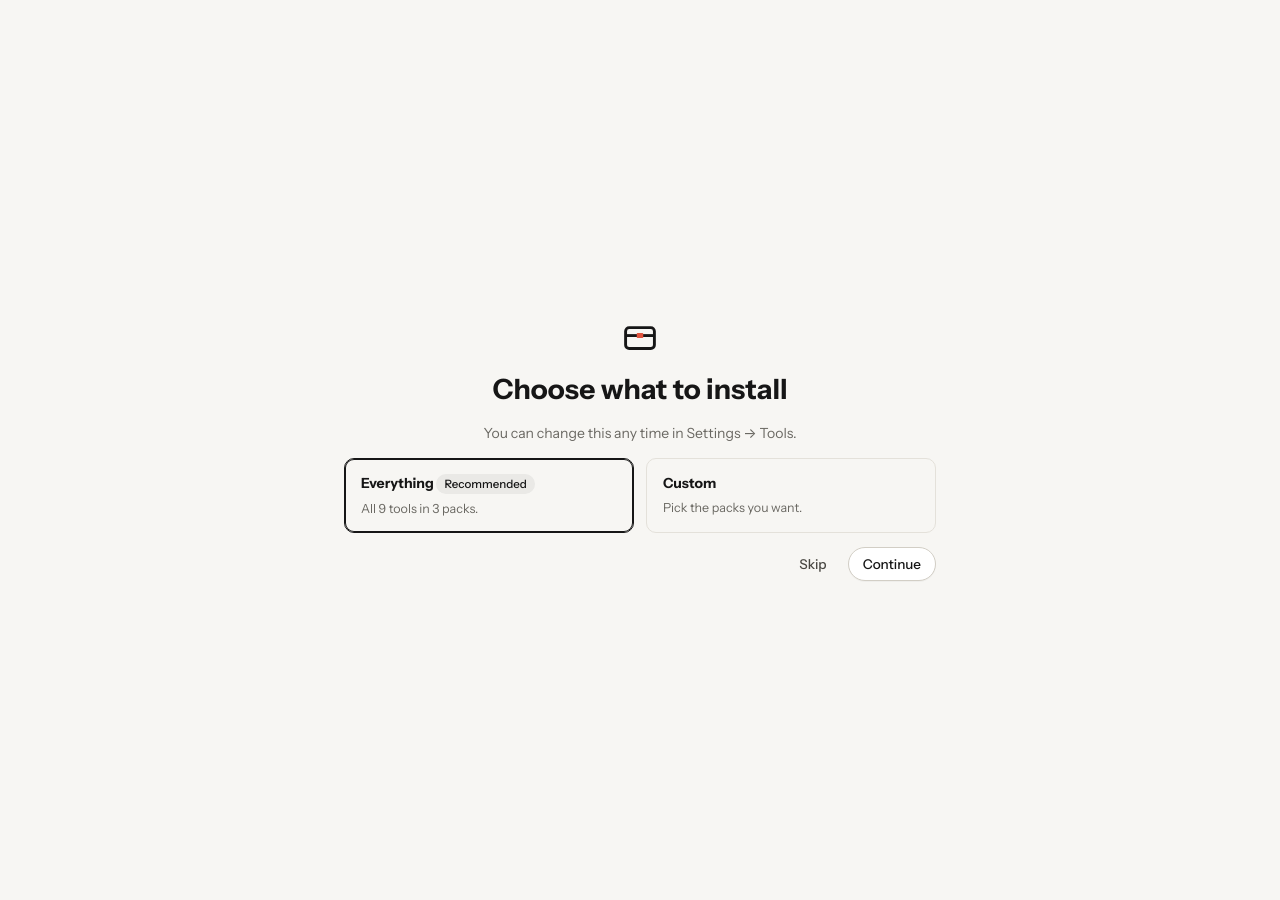
Test: First-run install choice › Custom saves only the chosen packs
Later steps or results of the test are not shown.
Click the radio button labelled "Custom Pick the packs you want.": (690, 482) left=646, top=458, right=936, bottom=533
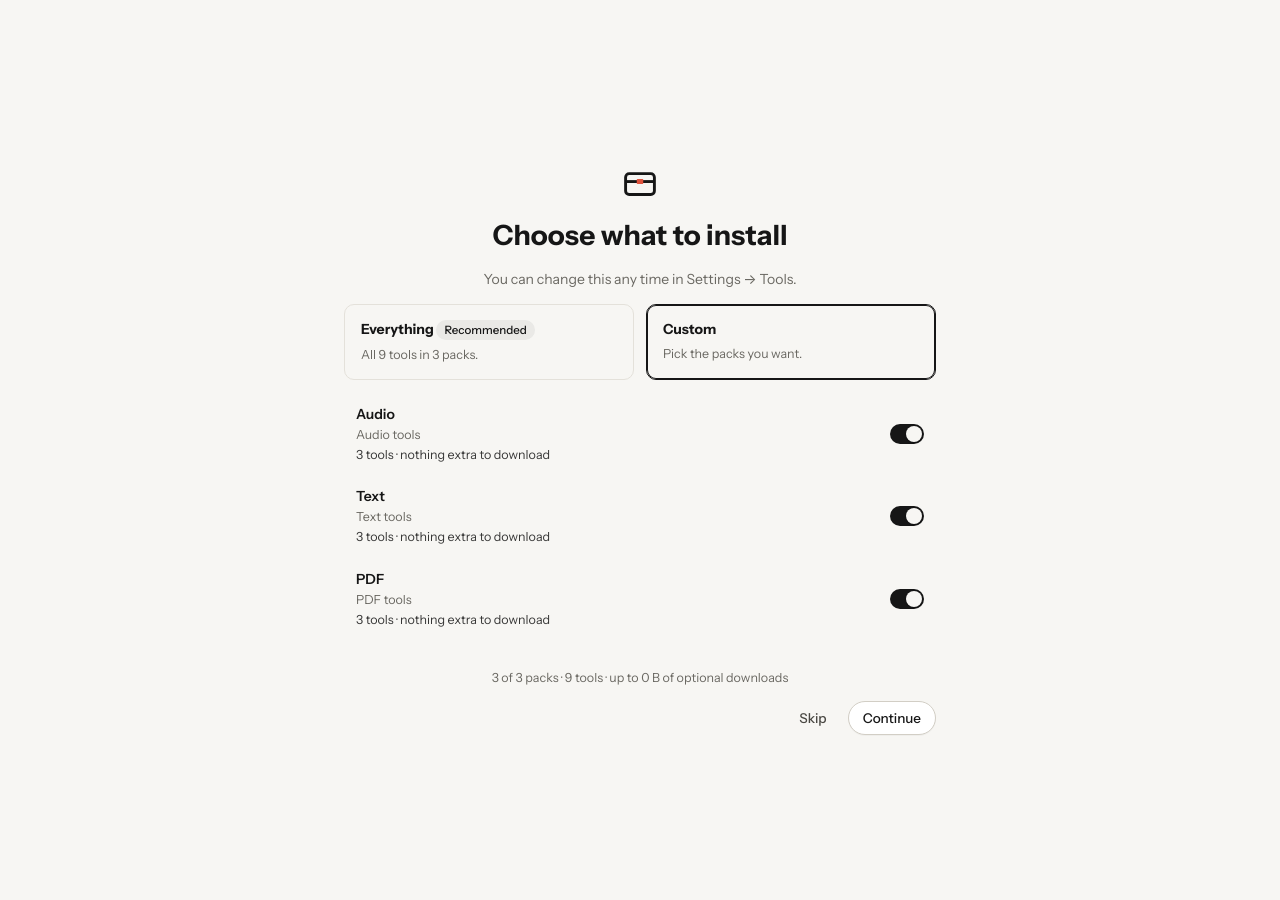
Click the switch named "Audio pack": (907, 434) left=890, top=424, right=924, bottom=444
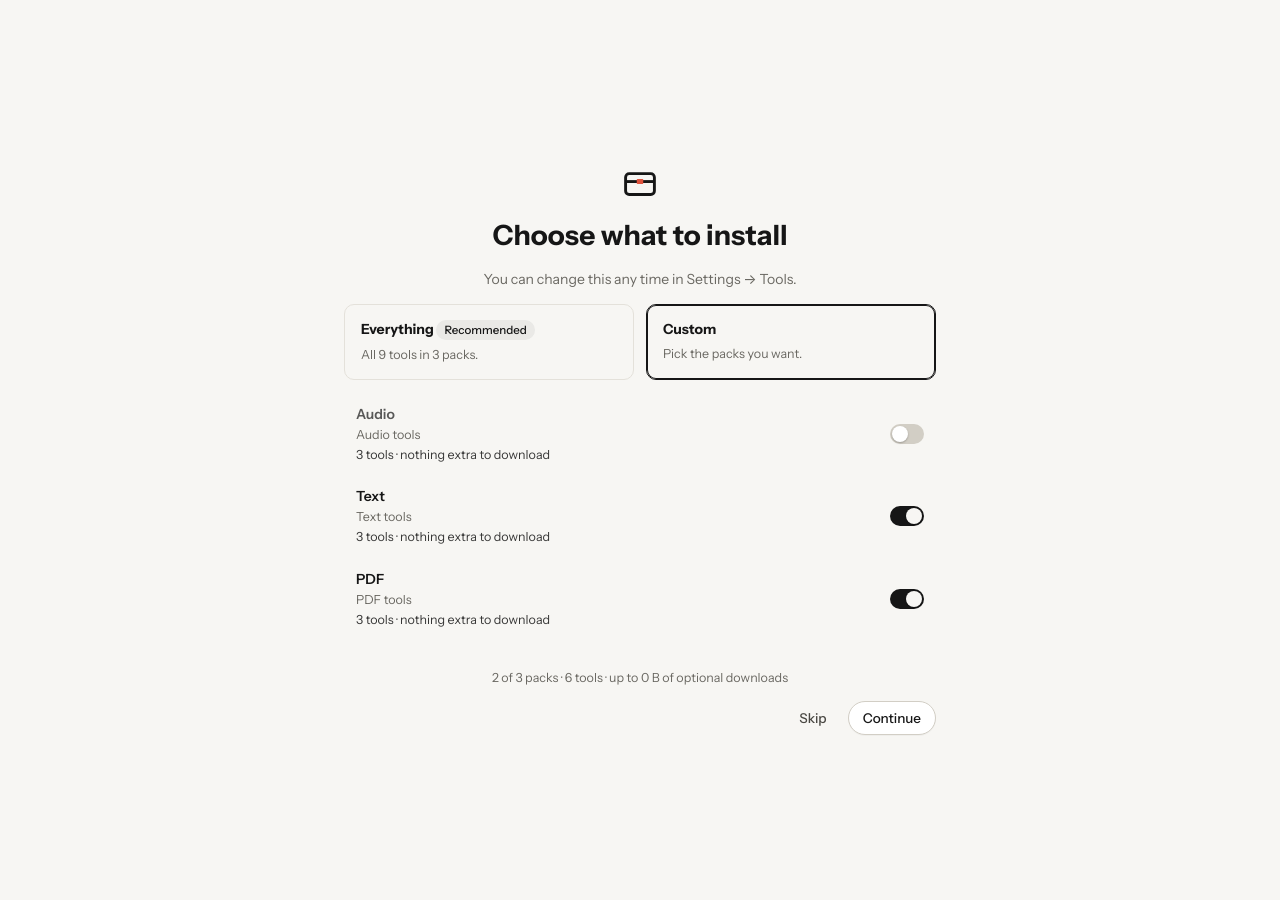
Result: the text "2 of 3 packs · 6 tools · up to 0 B of optional downloads" is shown at left=492, top=669, right=788, bottom=687
